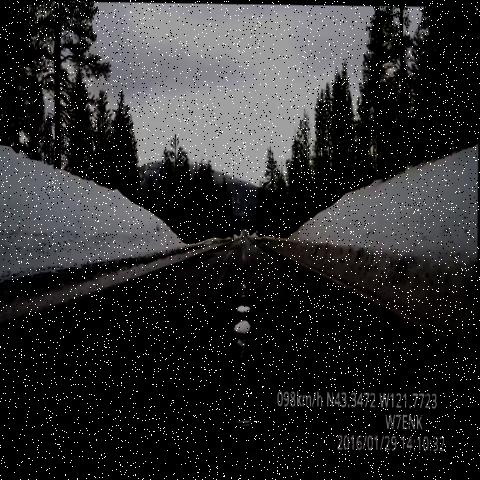pothole: (229, 313, 255, 365), (234, 295, 253, 318), (237, 261, 255, 280), (238, 278, 250, 297)
